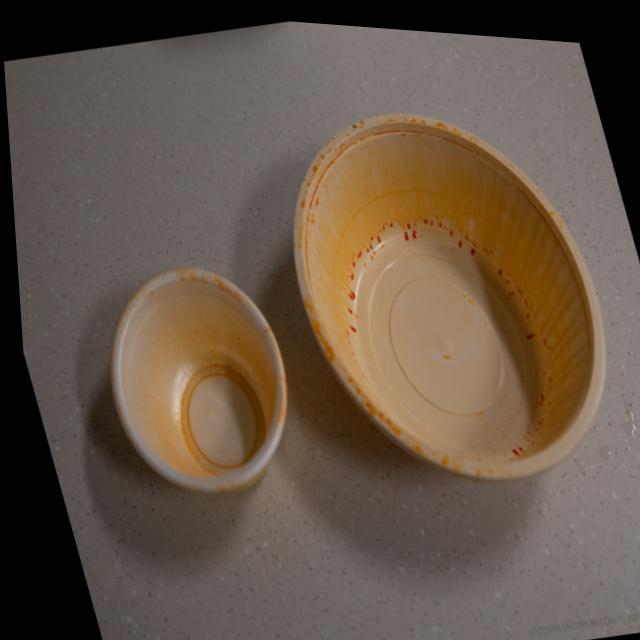bottle: (268, 97, 624, 497)
